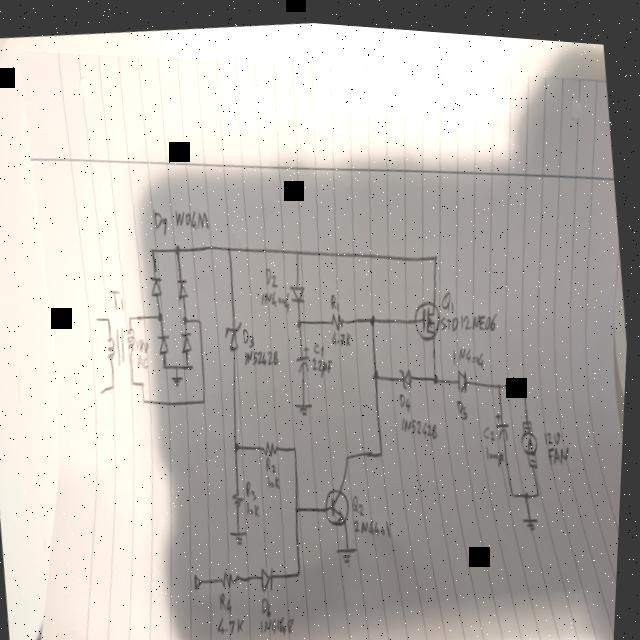capacitor: (494, 400, 514, 434), (295, 337, 314, 369)
diode: (222, 313, 248, 347), (261, 558, 280, 590), (149, 266, 166, 294), (456, 356, 471, 387), (156, 326, 173, 353), (289, 276, 308, 299), (400, 358, 416, 384), (179, 326, 195, 350), (176, 273, 191, 297)
ground: (338, 536, 362, 562), (231, 522, 252, 543), (523, 502, 543, 524), (296, 392, 316, 411), (173, 370, 186, 384)
junction: (431, 244, 440, 257), (174, 238, 182, 252), (433, 364, 441, 377), (186, 358, 197, 367), (370, 306, 377, 320), (537, 476, 544, 490), (182, 309, 190, 321), (374, 361, 381, 374), (235, 435, 242, 448), (298, 561, 306, 572), (293, 240, 301, 251), (226, 238, 233, 250), (297, 311, 304, 322), (158, 307, 165, 318), (346, 445, 353, 456), (525, 479, 532, 490), (296, 497, 303, 508), (379, 440, 386, 451), (512, 478, 518, 490), (140, 375, 147, 385), (202, 391, 209, 401), (497, 371, 503, 381), (106, 311, 112, 321), (150, 241, 156, 251), (163, 358, 169, 367), (198, 312, 204, 320), (294, 438, 299, 447), (132, 374, 137, 383), (129, 309, 134, 318), (112, 378, 117, 387), (143, 393, 148, 401), (523, 374, 528, 382), (176, 358, 181, 366)
resistor: (222, 563, 243, 584), (330, 304, 348, 324), (233, 483, 249, 504), (264, 433, 280, 453)
terminal: (195, 567, 206, 587), (100, 383, 107, 393), (94, 311, 101, 320)
text: (441, 299, 500, 328), (401, 401, 441, 435), (354, 503, 396, 535), (450, 332, 488, 365), (173, 200, 211, 231), (244, 338, 282, 365), (259, 281, 293, 311), (262, 609, 301, 633), (310, 347, 336, 375), (219, 607, 249, 631), (547, 431, 573, 457), (151, 201, 171, 234), (486, 429, 508, 458), (439, 279, 457, 306), (331, 322, 354, 343), (109, 283, 127, 309), (353, 484, 369, 512), (399, 380, 416, 406), (544, 417, 565, 438), (262, 589, 279, 612), (221, 585, 237, 609), (264, 260, 279, 285), (242, 320, 257, 344), (246, 472, 261, 496), (457, 388, 471, 412), (248, 493, 264, 513), (484, 415, 500, 434), (267, 468, 284, 485), (266, 448, 280, 468), (135, 333, 152, 349), (313, 333, 328, 349), (138, 350, 152, 366), (329, 285, 340, 304)
transformer: (103, 320, 140, 368)
transistor: (411, 288, 446, 337), (323, 476, 355, 525)
